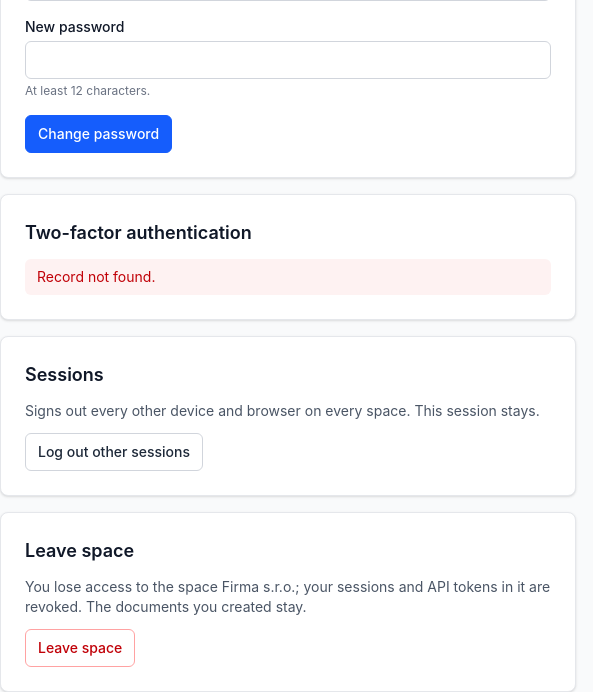
Scenario: Leave space (account page) › shows the server's last_owner refusal
(page scrolled)
Click the button with test id "leave-submit".
click(80, 648)  # box 25,629 -> 135,667
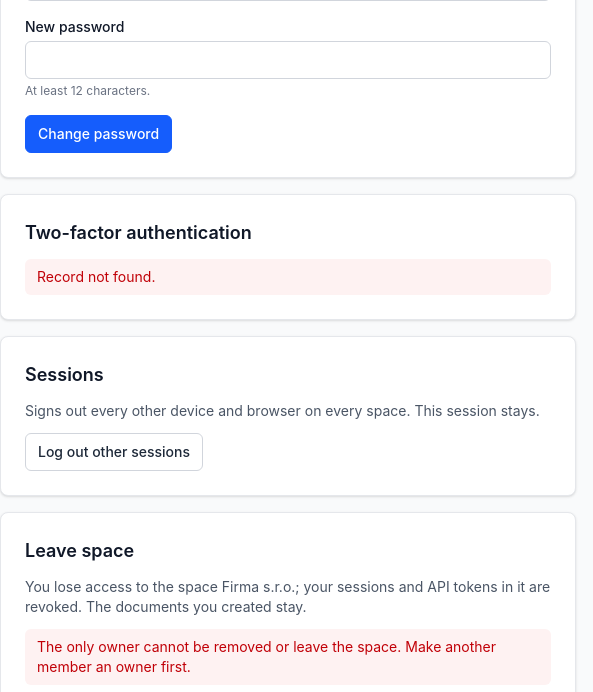
Result: the message with test id "leave-error" shows "The only owner cannot be removed or leave the space. Make another member an owner first." at 37,638 -> 496,675
